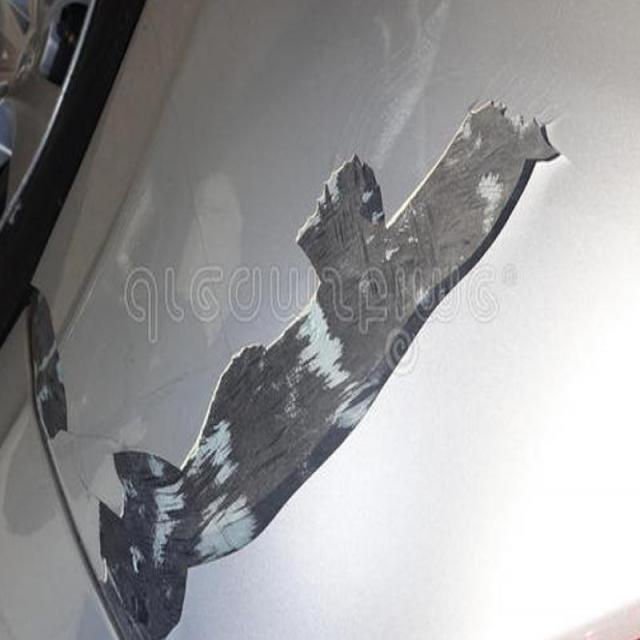scratch: (4, 74, 578, 640)
